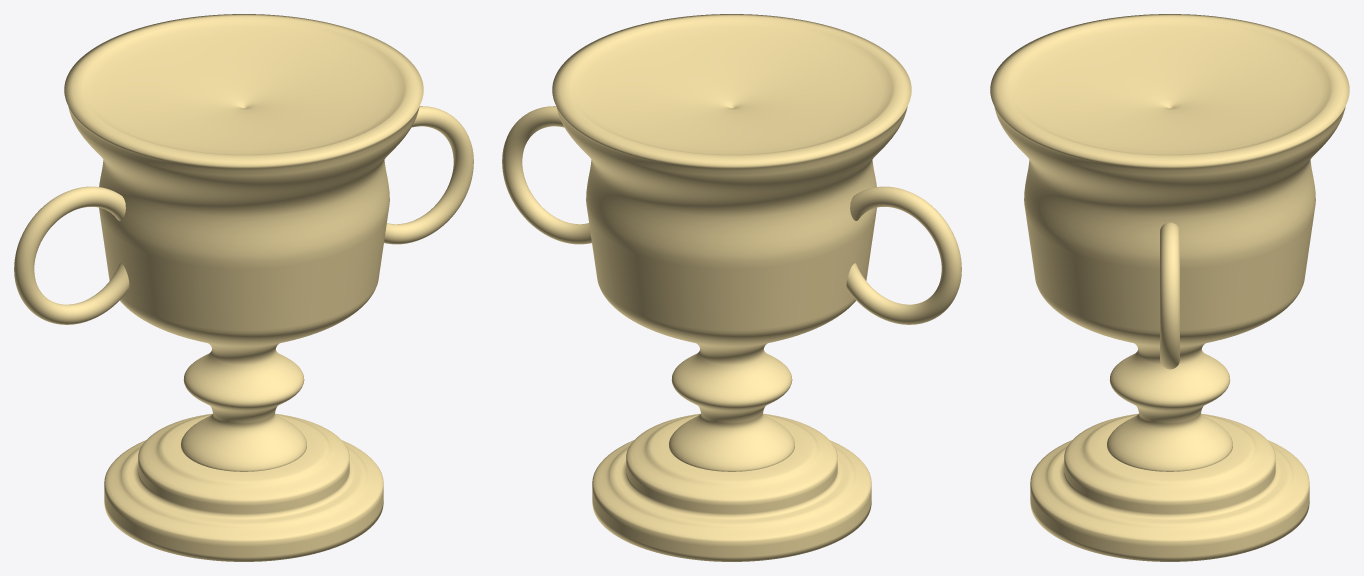
Rendered from trophy.glb.
3 renders of one model, left to right at view 1: azimuth 30°, elevation 25°; view 2: azimuth 150°, elevation 25°; view 3: azimuth 270°, elevation 25°, orthographic.
Parts seen in each view (by area): view 1: world; view 2: world; view 3: world.
Boxes of the visible parts, <box> form: world: <box>14,14,473,561</box>; world: <box>502,14,961,561</box>; world: <box>990,14,1349,561</box>.
Size of the model in its own units: 2.5 by 2.17 by 1.7.
